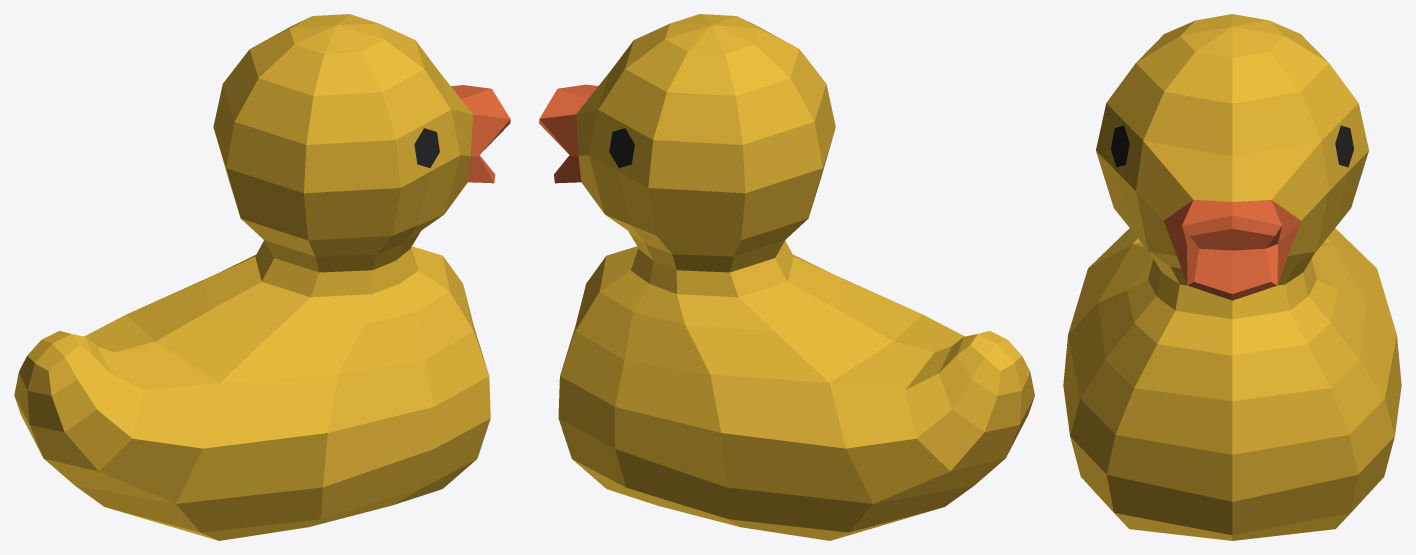
Rendered from rubber_duck.glb.
3 views of the same model, side by side, from view 1: azimuth 30°, elevation 25°; view 2: azimuth 150°, elevation 25°; view 3: azimuth 270°, elevation 25° (orthographic). The views are drawn at different scales.
Parts seen in each view (by area): view 1: Rubber_Duck; view 2: Rubber_Duck; view 3: Rubber_Duck.
Boxes of the visible parts, <box> form: Rubber_Duck: <box>14,14,510,540</box>; Rubber_Duck: <box>539,14,1034,540</box>; Rubber_Duck: <box>1063,14,1401,540</box>.
Size of the model in its own units: 0.1896 by 0.1715 by 0.1113.
